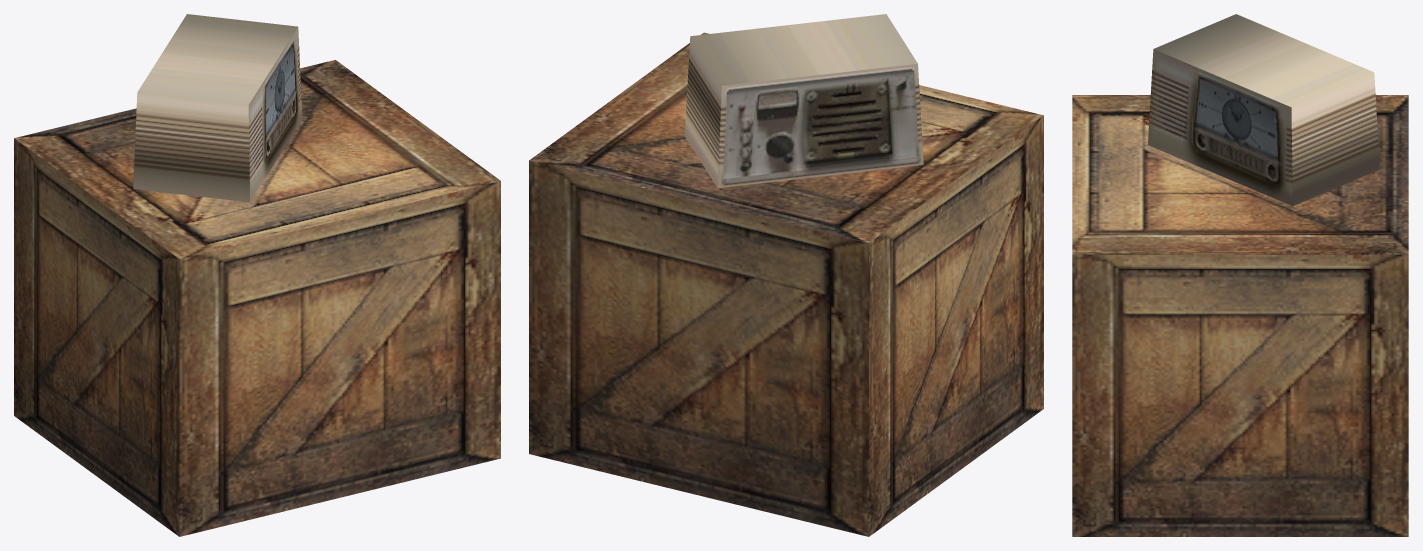
The model's file is Radio.glb.
3 views of the same model, side by side, from view 1: azimuth 30°, elevation 25°; view 2: azimuth 150°, elevation 25°; view 3: azimuth 270°, elevation 25° (orthographic). The views are drawn at different scales.
Parts seen in each view (by area): view 1: _Radio02; view 2: _Radio02; view 3: _Radio02.
Part boxes in pixels (x1,y1,x2,y2): _Radio02: (14,14,500,536); _Radio02: (529,14,1043,536); _Radio02: (1072,14,1408,536).
Size of the model in its own units: 0.7275 by 0.8136 by 0.6484.
1 material, 1 textured.
